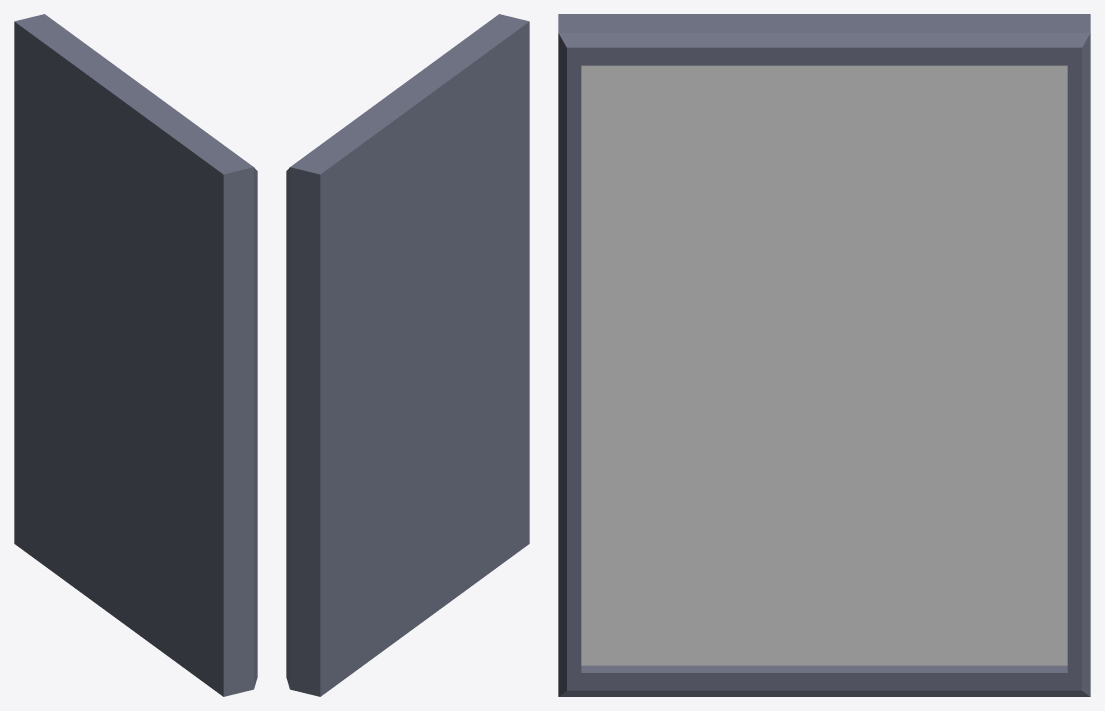
Rendered from SignLarge.fbx.
The picture shows the model from 3 angles, left to right: view 1: azimuth 30°, elevation 25°; view 2: azimuth 150°, elevation 25°; view 3: azimuth 270°, elevation 25°; orthographic projection. The views are drawn at different scales.
Parts seen in each view (by area): view 1: PosterSign; view 2: PosterSign; view 3: PosterSign.
Boxes of the visible parts, left/top/right/bottom form: PosterSign: left=14, top=14, right=257, bottom=696; PosterSign: left=286, top=14, right=529, bottom=696; PosterSign: left=558, top=14, right=1090, bottom=696.
Size of the model in its own units: 11.94 by 159 by 116.
